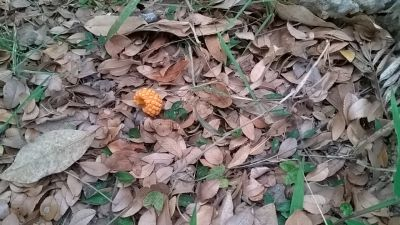eggs: (131, 86, 165, 117)
